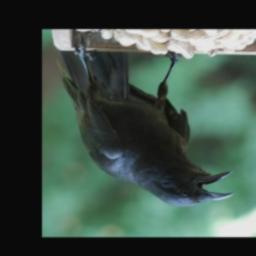Crow: (55, 33, 234, 208)
